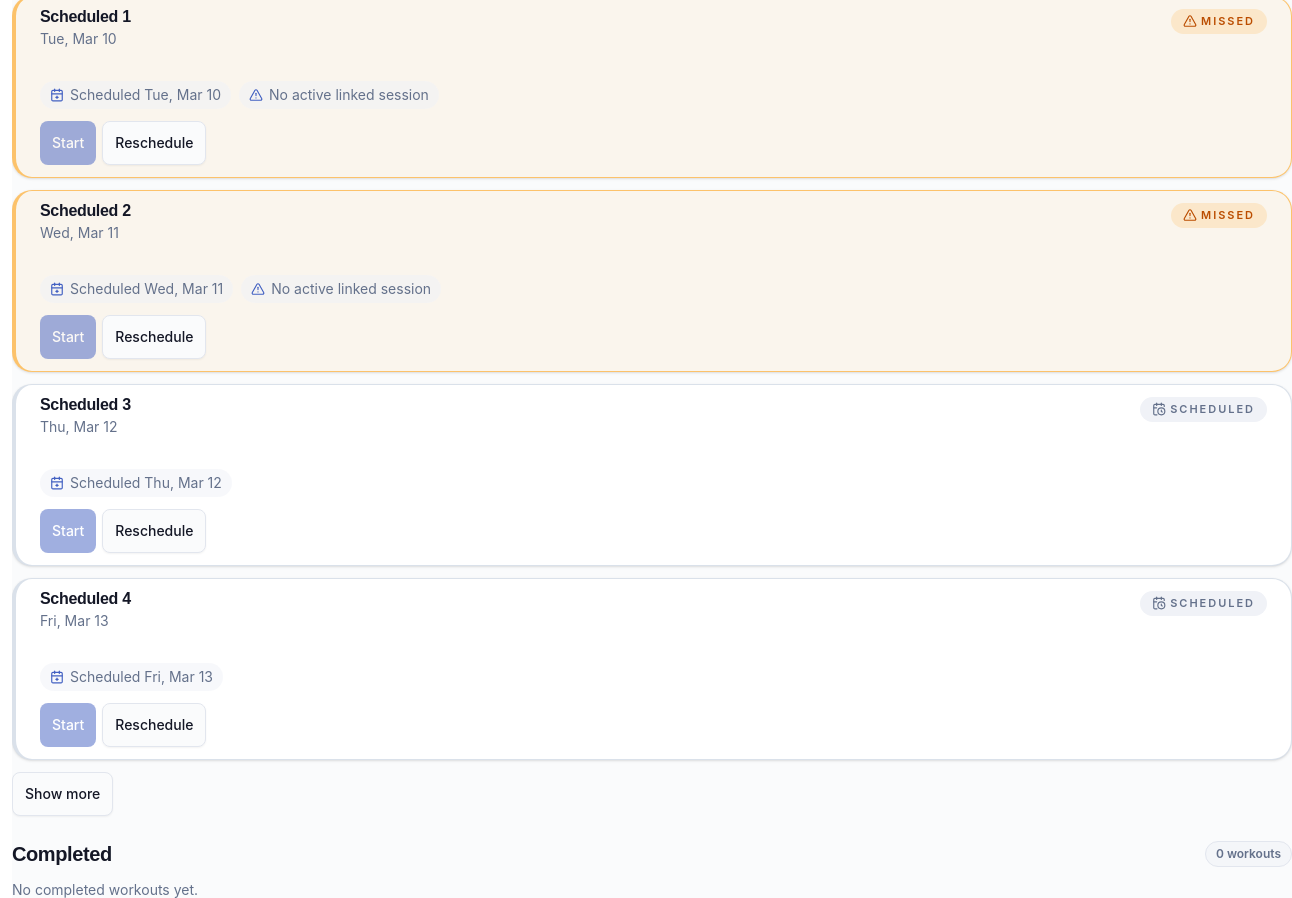
Test: WorkoutList › reveals more scheduled workouts when clicking show more
(page scrolled)
Expected: the text "Scheduled 5" is not shown
Step 1. Click the button "Show more" → (63, 794), box [12, 772, 113, 816]
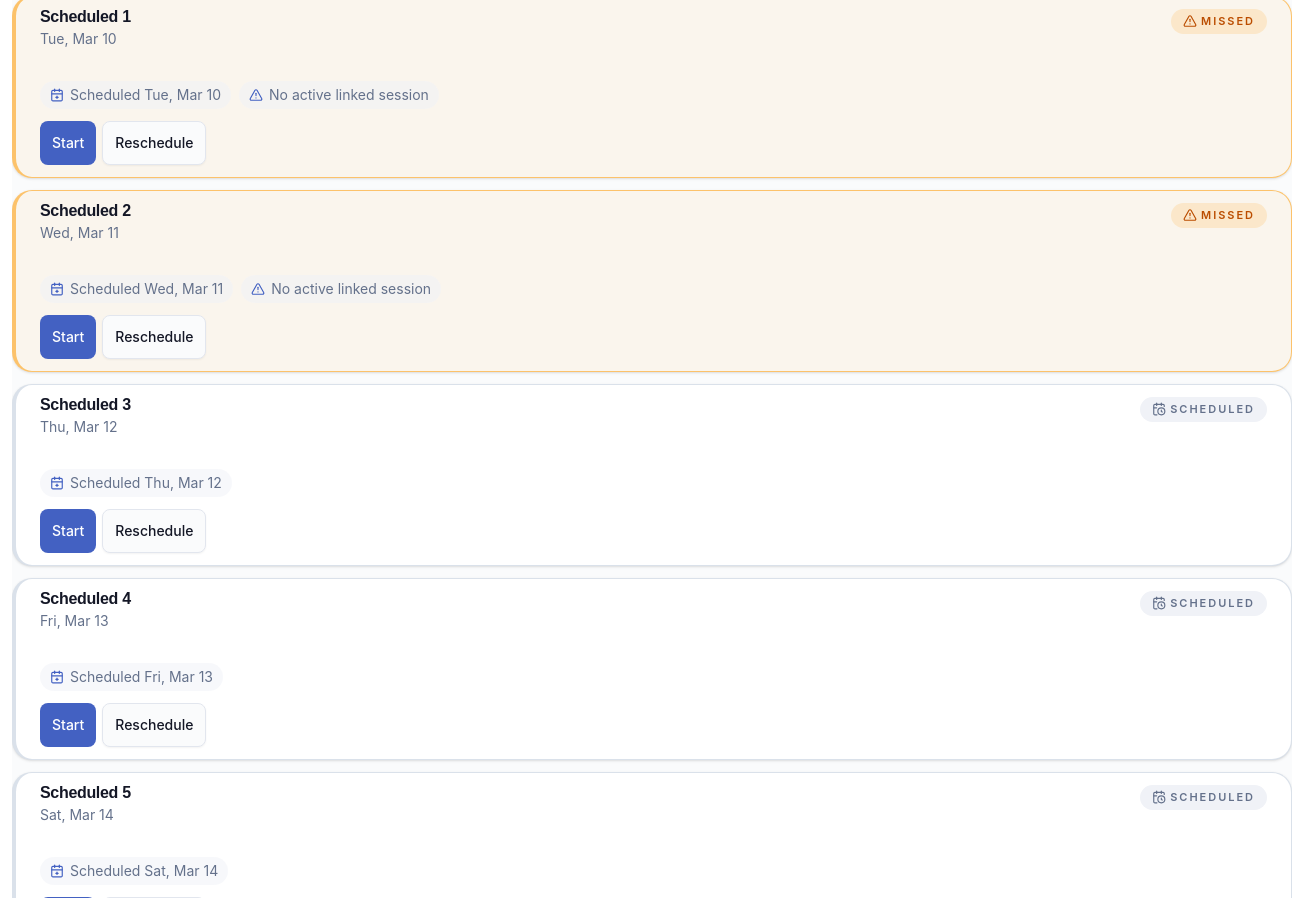
Expected: the link "Scheduled 5" is shown, [40, 784, 131, 801]
